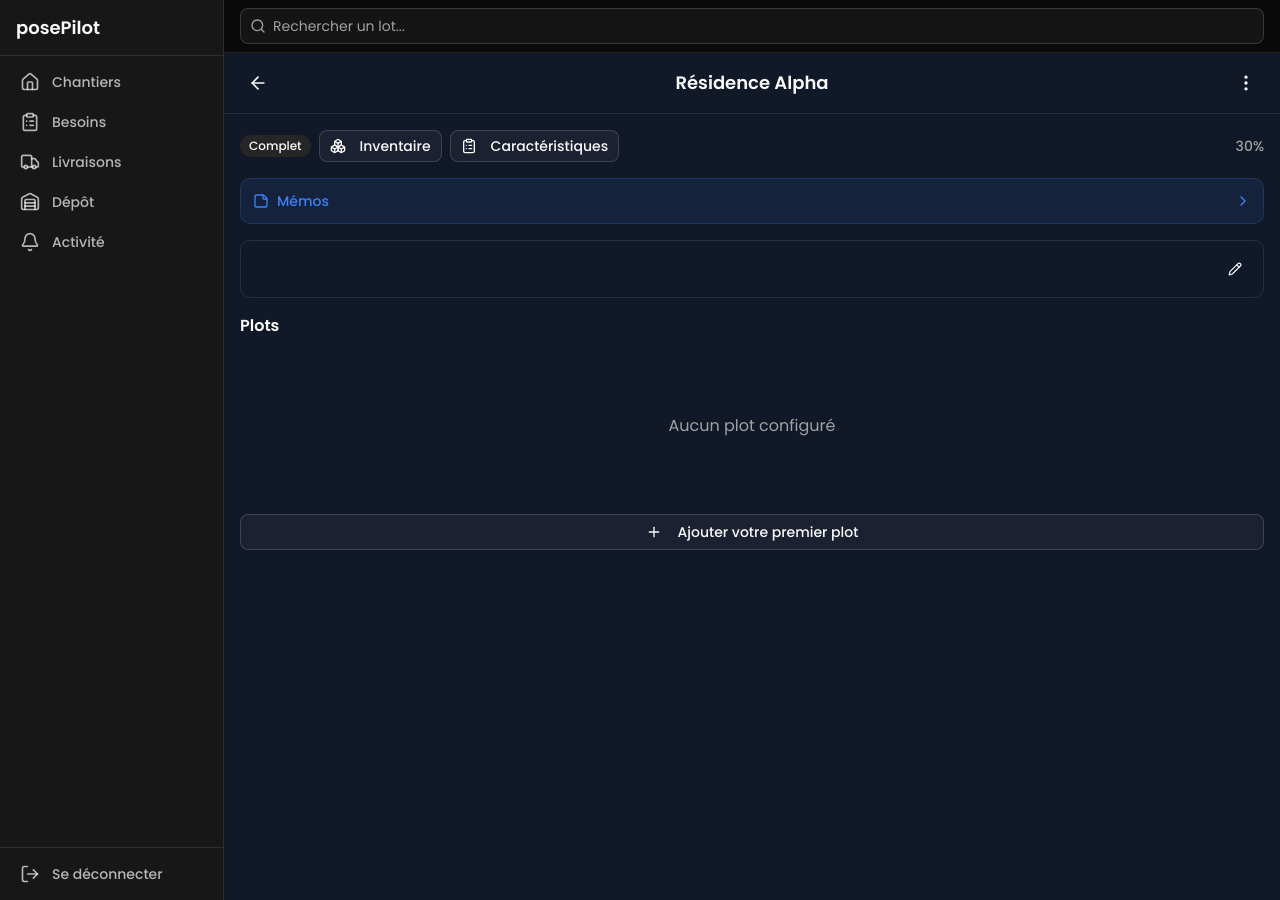
Test: ChantierPage › shows "Supprimer" AlertDialog when "Supprimer" is clicked
The width and height of the screenshot is (1280, 900).
expect the heading "Résidence Alpha" is shown: met, box [676,69,829,97]
Click the button named "Options du chantier".
click(1246, 83)  # box [1228,65,1264,101]
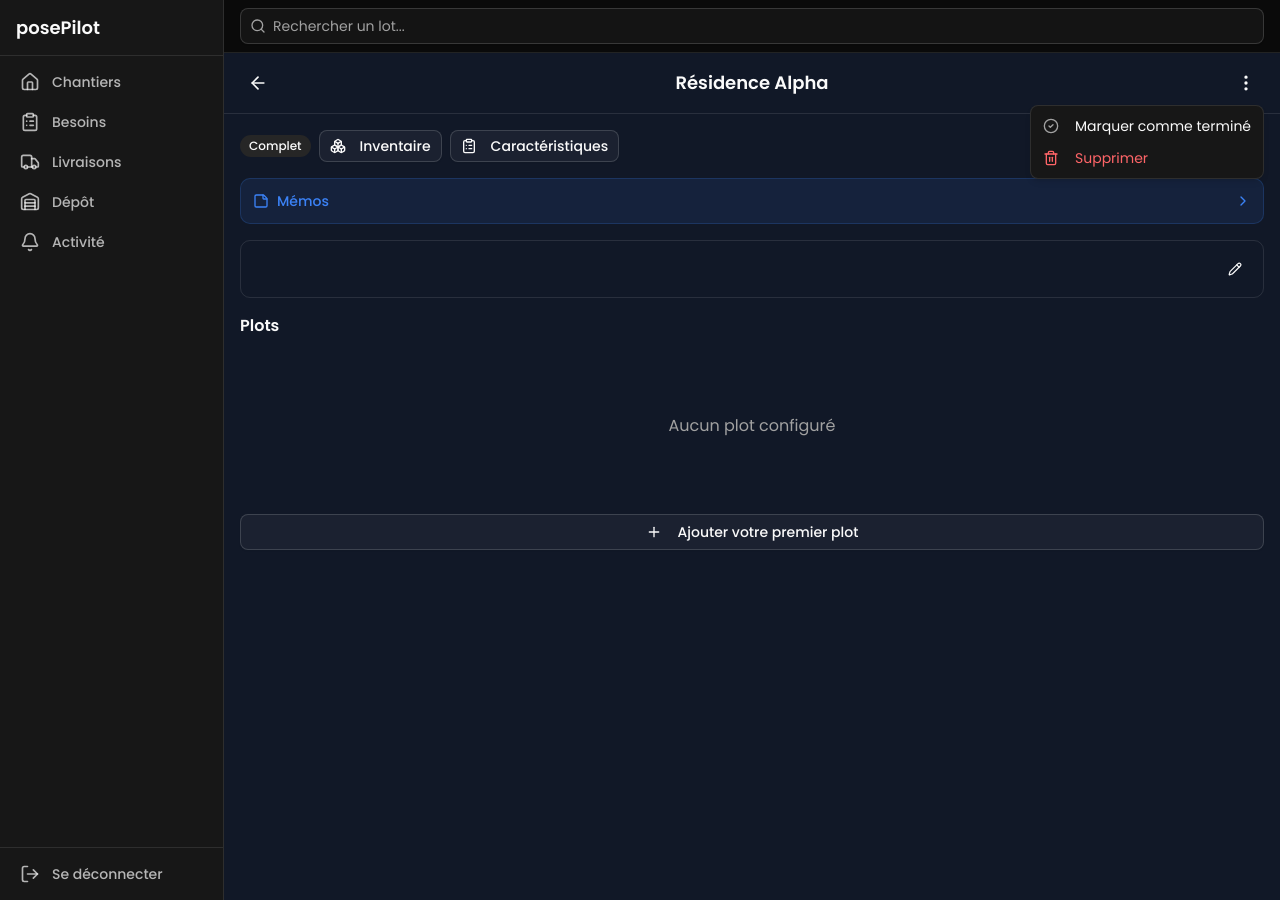
Click the menu item "Supprimer".
click(1096, 158)  # box [1043,148,1148,168]
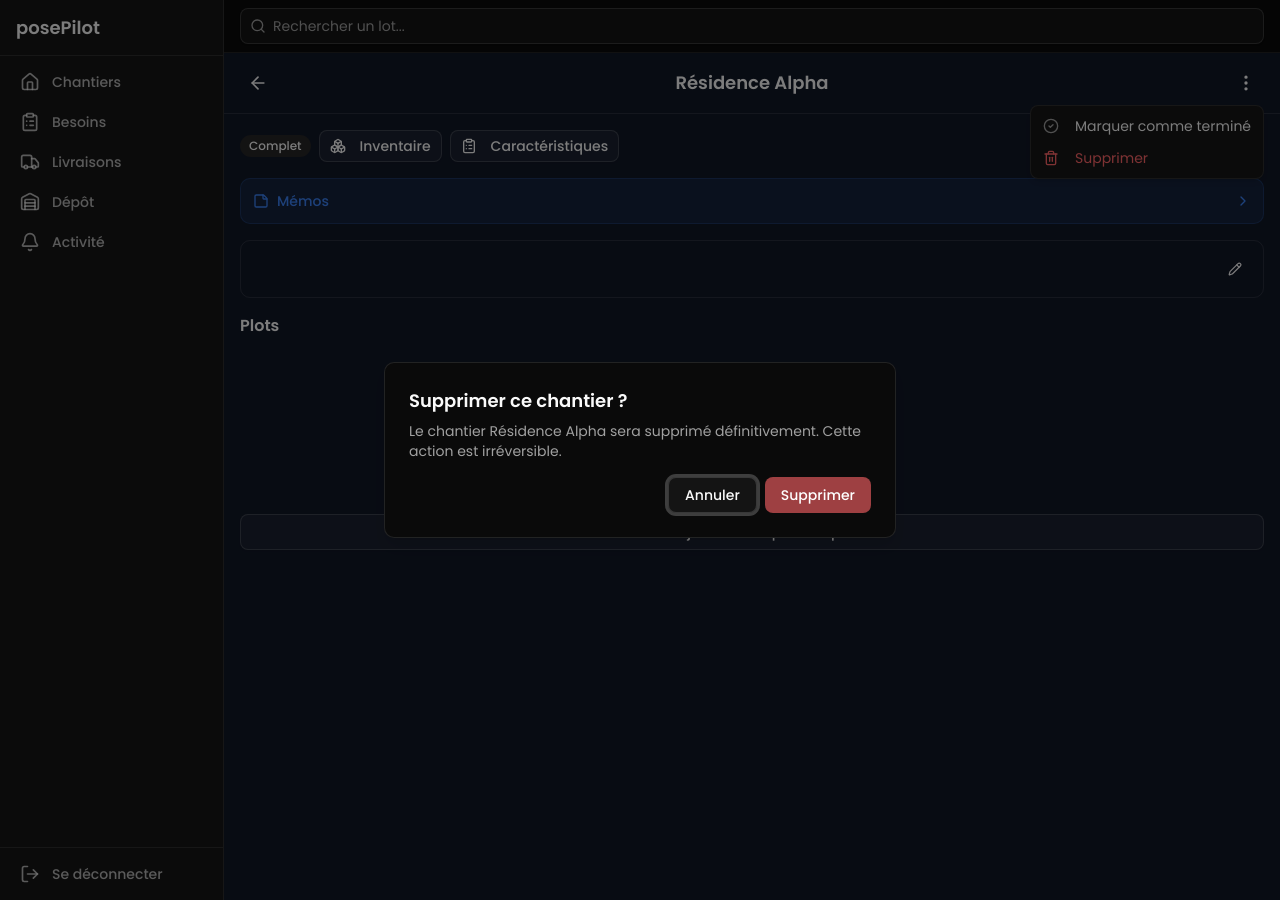
expect the dialog is shown: met, box [384,362,896,538]
expect the heading "Supprimer ce chantier ?" is shown: met, box [409,387,628,415]
expect the text "sera supprimé définitivement" is shown: met, box [409,421,861,461]
